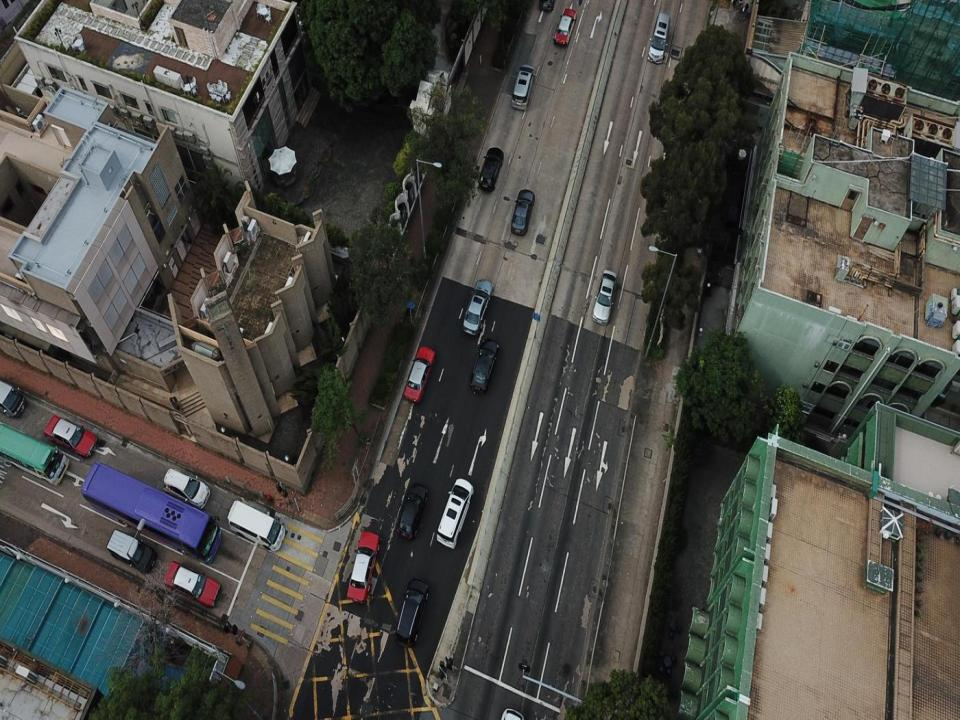bus: (81, 462, 221, 562), (0, 420, 71, 487)
car: (163, 562, 222, 608), (43, 414, 99, 458), (106, 528, 157, 573), (348, 533, 379, 602), (162, 468, 210, 510), (395, 484, 429, 541), (463, 277, 495, 335), (404, 346, 435, 405), (471, 341, 500, 393), (478, 146, 505, 196), (593, 270, 617, 324), (510, 189, 535, 236), (554, 7, 576, 46)
van: (226, 499, 286, 549), (437, 479, 473, 547), (396, 578, 431, 644), (647, 14, 672, 63), (0, 380, 27, 419), (512, 63, 534, 109)
